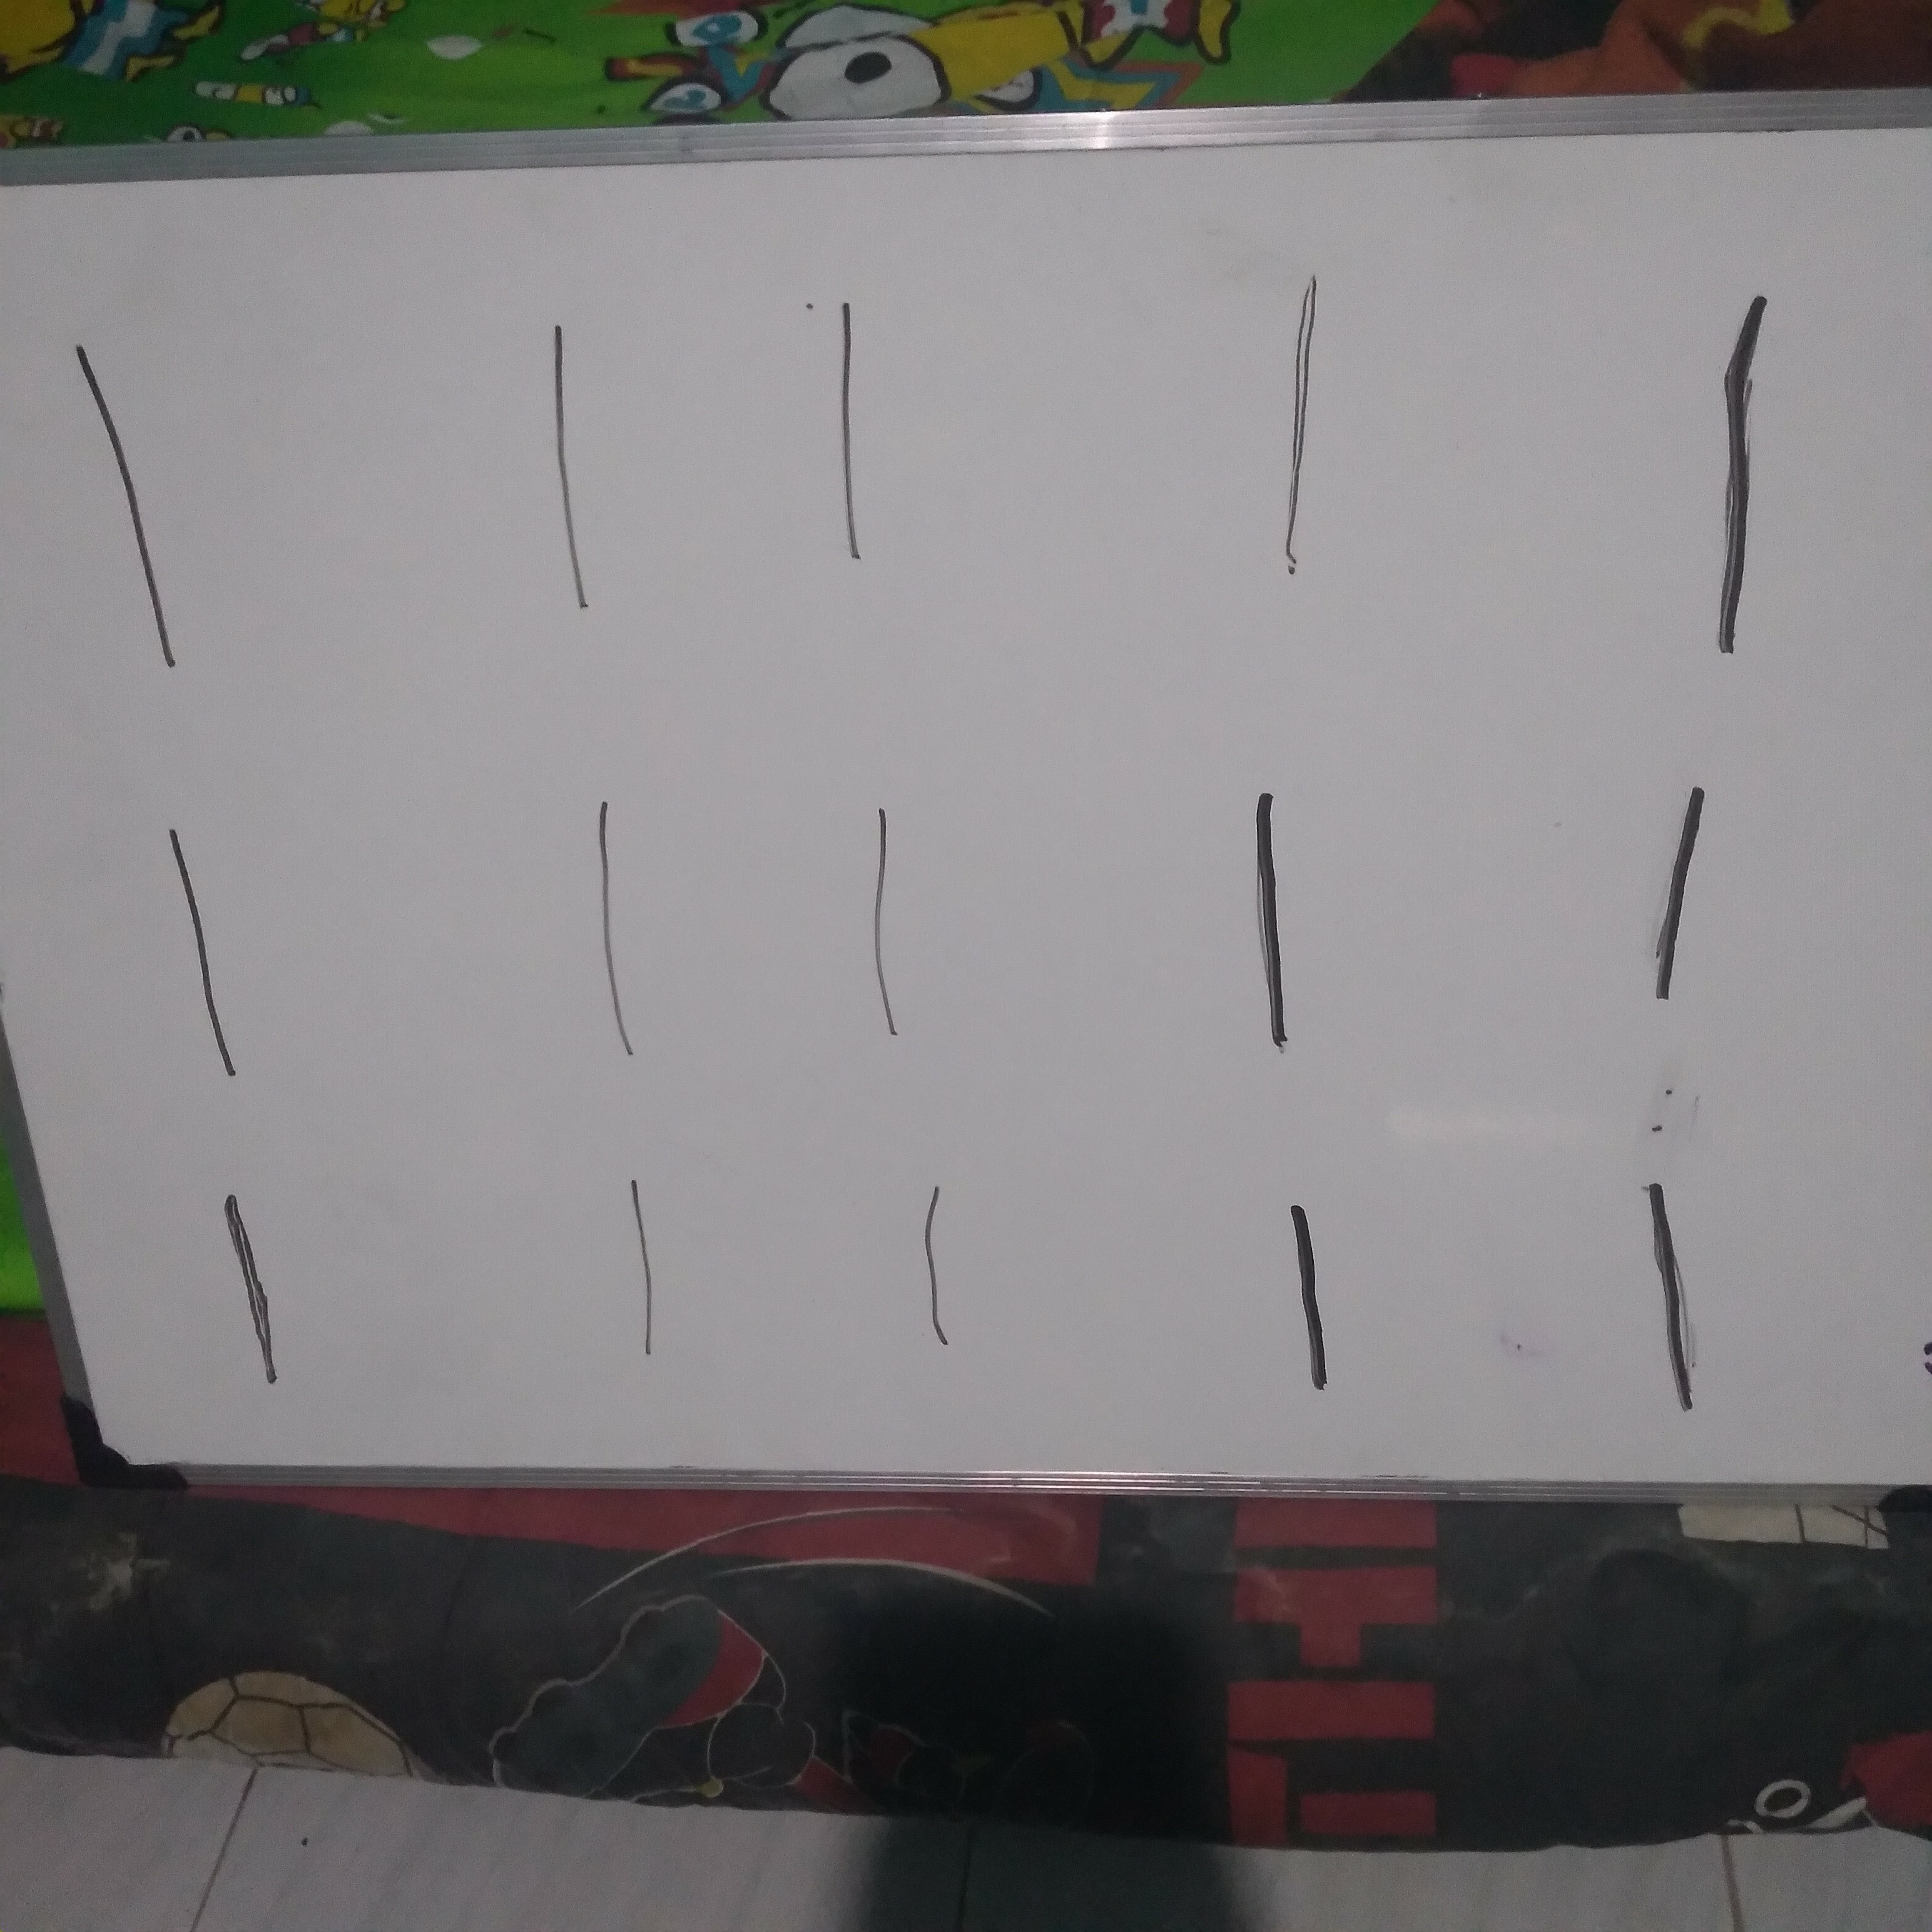num1: (64, 328, 188, 687), (134, 766, 257, 1126), (1690, 272, 1778, 661), (1223, 731, 1311, 1120), (1635, 1075, 1724, 1464), (199, 1156, 303, 1434), (517, 332, 621, 610), (823, 788, 927, 1066), (549, 793, 653, 1071), (895, 1106, 999, 1385), (583, 1136, 687, 1414), (799, 290, 903, 569), (1633, 738, 1716, 1045), (1263, 1142, 1346, 1450), (1254, 277, 1335, 584)
